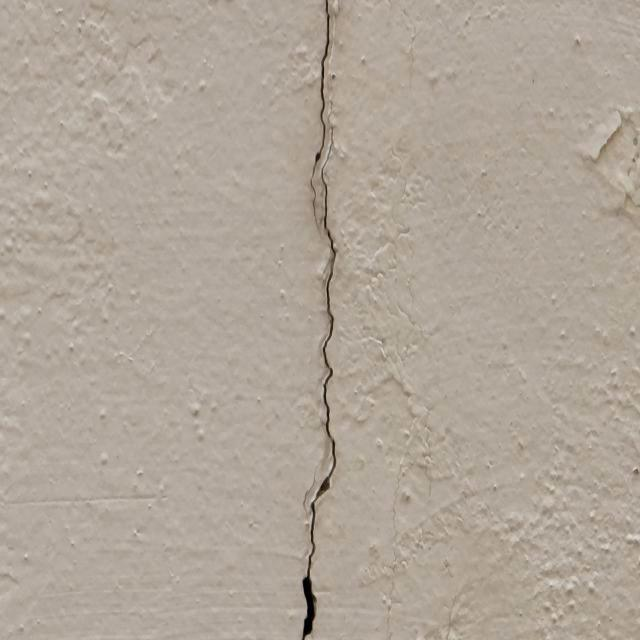SurfaceCrack: (252, 0, 389, 640)
